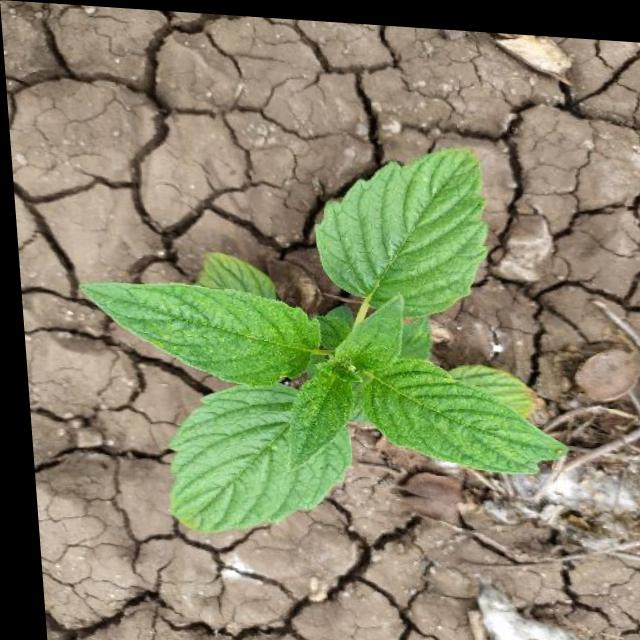crop: (62, 115, 569, 550)
